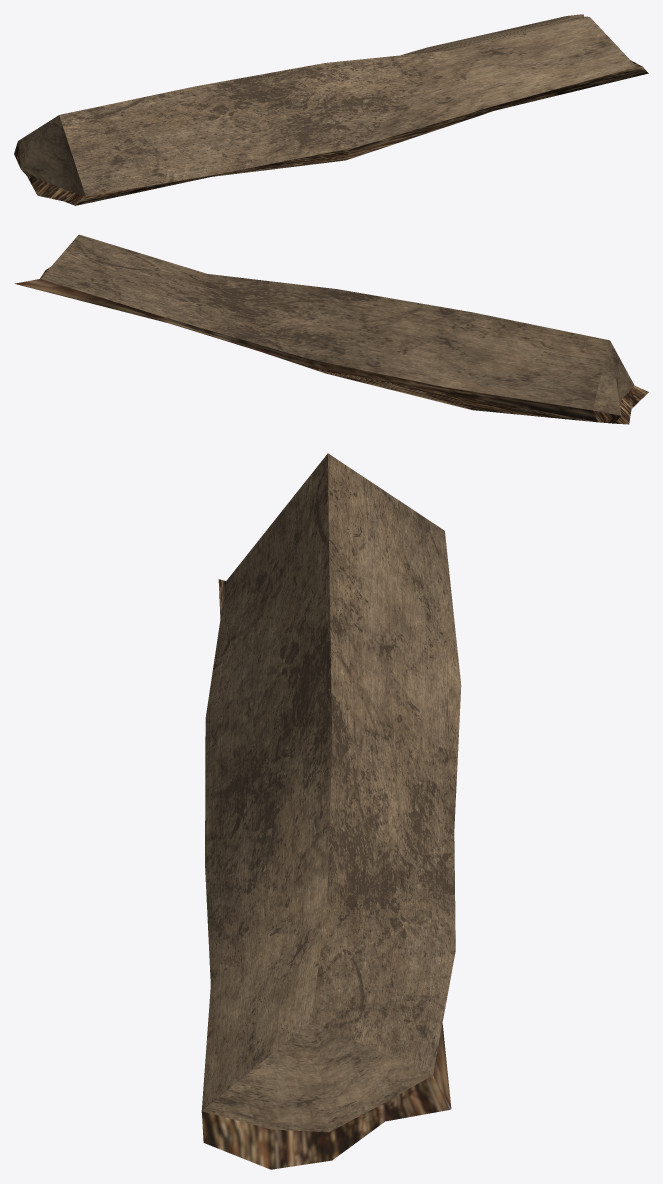
The model's file is Pine_03.fbx.
The picture shows the model from 3 angles, top to bottom: view 1: azimuth 30°, elevation 25°; view 2: azimuth 150°, elevation 25°; view 3: azimuth 270°, elevation 25°; orthographic projection. The views are drawn at different scales.
Parts seen in each view (by area): view 1: Cube.017; view 2: Cube.017; view 3: Cube.017.
Part boxes in pixels (x1,y1,x2,y2): Cube.017: [14, 14, 648, 205]; Cube.017: [14, 234, 648, 424]; Cube.017: [201, 453, 461, 1169].
Size of the model in its own units: 31.84 by 5.24 by 6.02.
